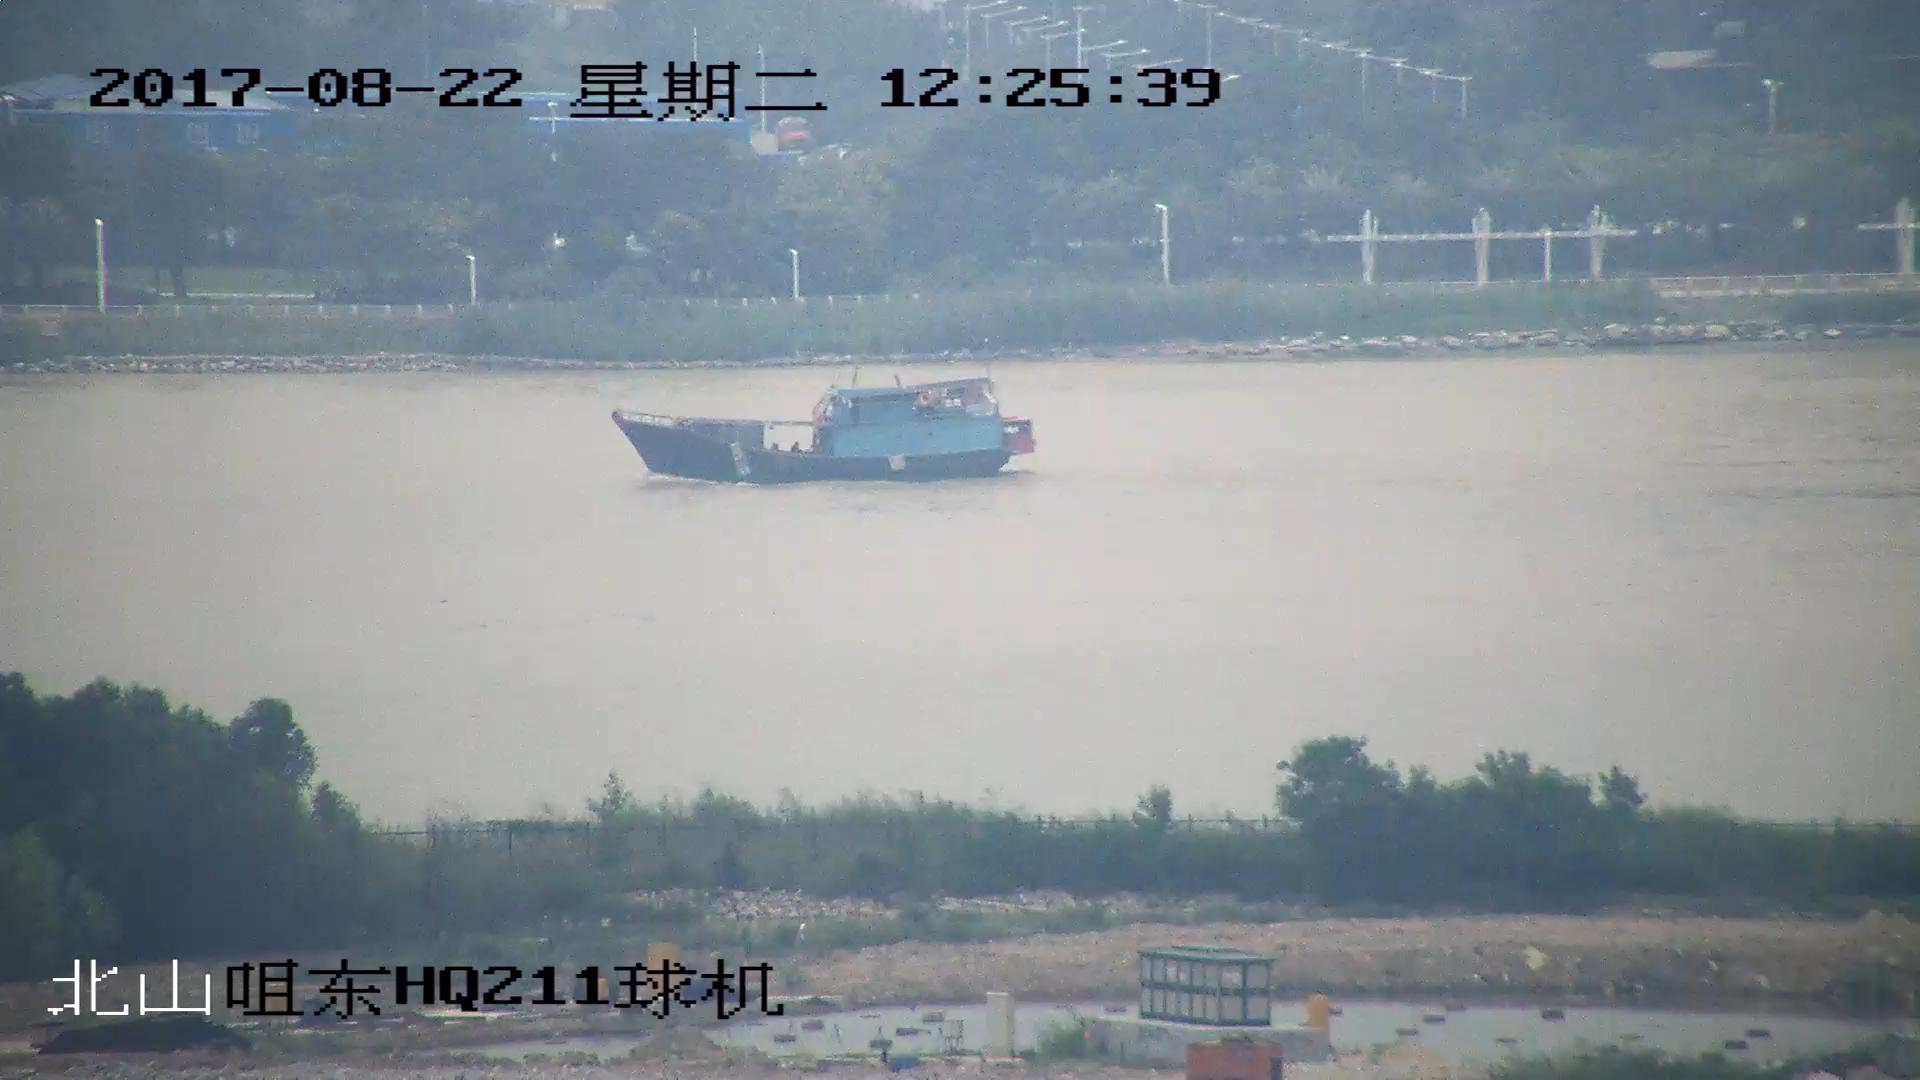fishing boat: (618, 379, 1032, 486)
